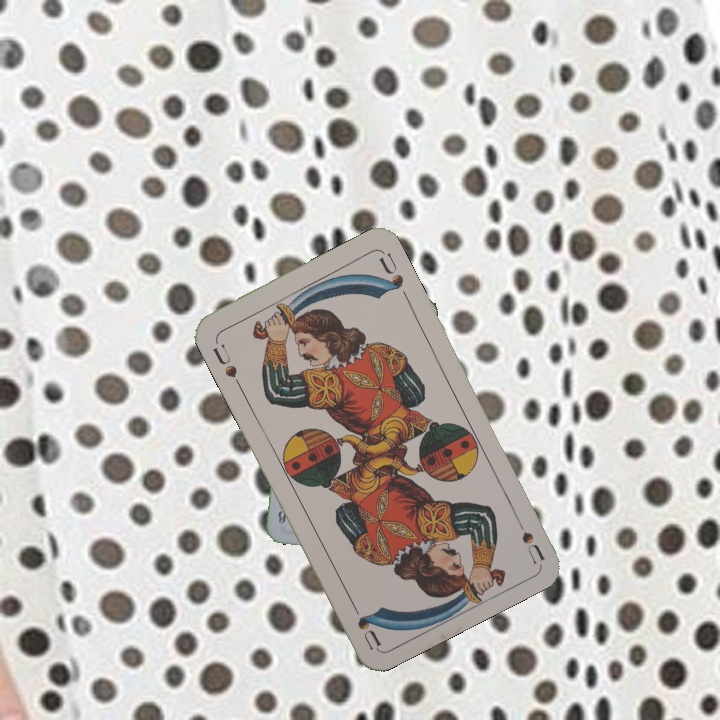SU: (509, 509, 547, 565), (208, 340, 244, 391)
